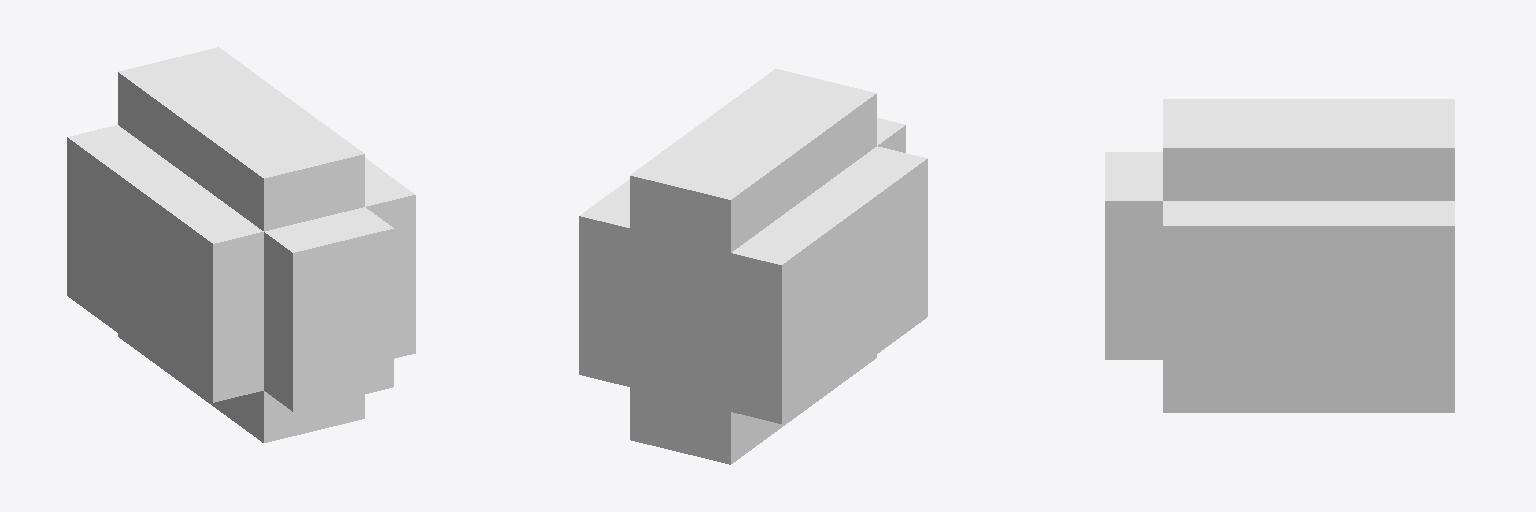
The model's file is a792_Hand_FingerTip.obj.
3 renders of one model, left to right at view 1: azimuth 30°, elevation 25°; view 2: azimuth 150°, elevation 25°; view 3: azimuth 270°, elevation 25°, orthographic.
Bounding box in the file's own units: 4 × 5 × 6.